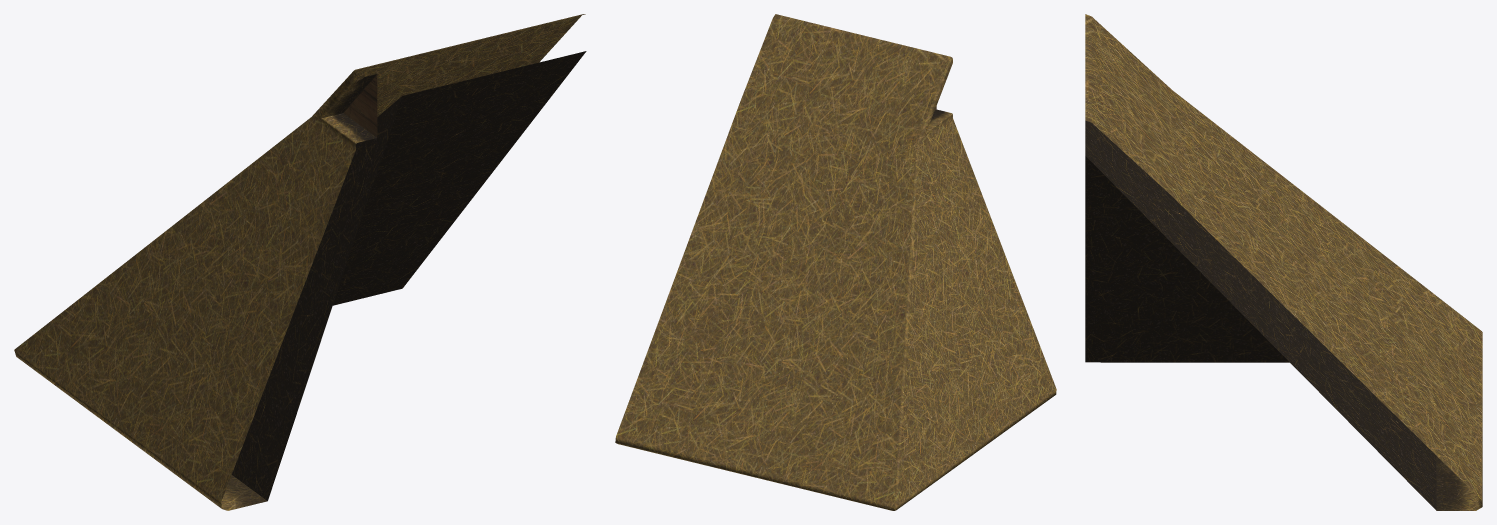
File: Roof_Hay_End_Left_Corner.fbx
The picture shows the model from 3 angles, left to right: view 1: azimuth 30°, elevation 25°; view 2: azimuth 150°, elevation 25°; view 3: azimuth 270°, elevation 25°; orthographic projection. The views are drawn at different scales.
Parts seen in each view (by area): view 1: Roof_Hay_End_Left_Corner; view 2: Roof_Hay_End_Left_Corner; view 3: Roof_Hay_End_Left_Corner.
Boxes of the visible parts, bbox=[...] form: Roof_Hay_End_Left_Corner: bbox=[14, 14, 586, 510]; Roof_Hay_End_Left_Corner: bbox=[615, 14, 1056, 510]; Roof_Hay_End_Left_Corner: bbox=[1085, 14, 1482, 510].
Bounding box in the file's own units: 231 × 248 × 228.
